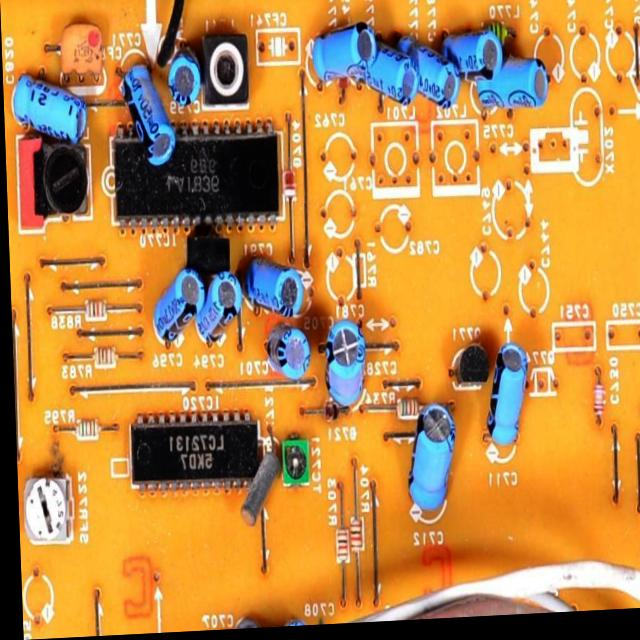IC: (114, 141, 293, 222), (124, 414, 254, 495)
capacitor: (474, 339, 544, 465), (398, 397, 457, 538), (310, 319, 374, 421), (8, 70, 96, 144), (298, 20, 386, 87), (447, 16, 517, 99), (123, 57, 177, 164), (145, 262, 204, 355), (240, 245, 306, 327), (484, 48, 543, 135), (373, 23, 424, 119), (191, 267, 243, 356), (411, 36, 462, 117), (163, 52, 208, 109), (264, 325, 311, 379), (268, 609, 319, 630), (214, 626, 274, 632)
resistor: (322, 524, 354, 578), (85, 341, 118, 381), (65, 408, 97, 449), (344, 509, 363, 562), (74, 290, 107, 320)
